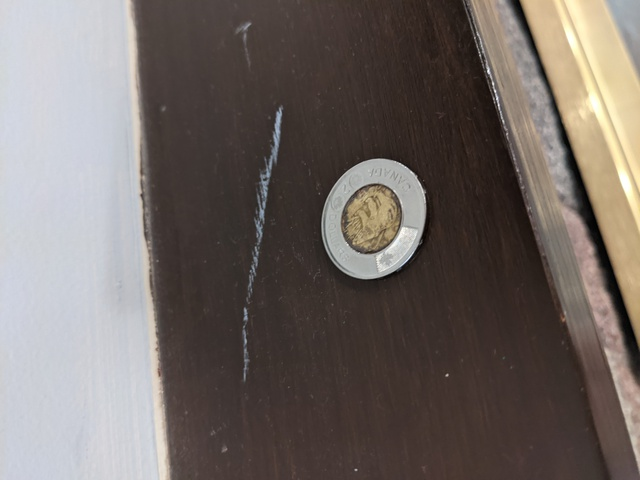twonie: (312, 149, 449, 281)
